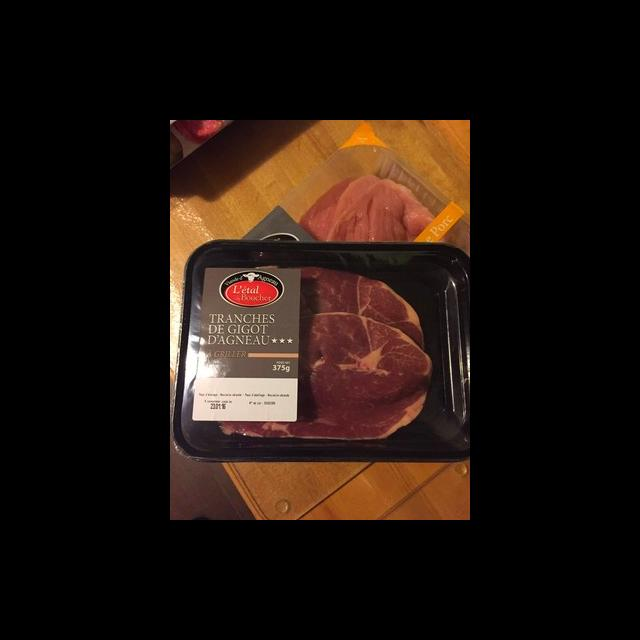beef: (226, 314, 429, 437), (300, 265, 424, 344), (299, 176, 430, 242)
